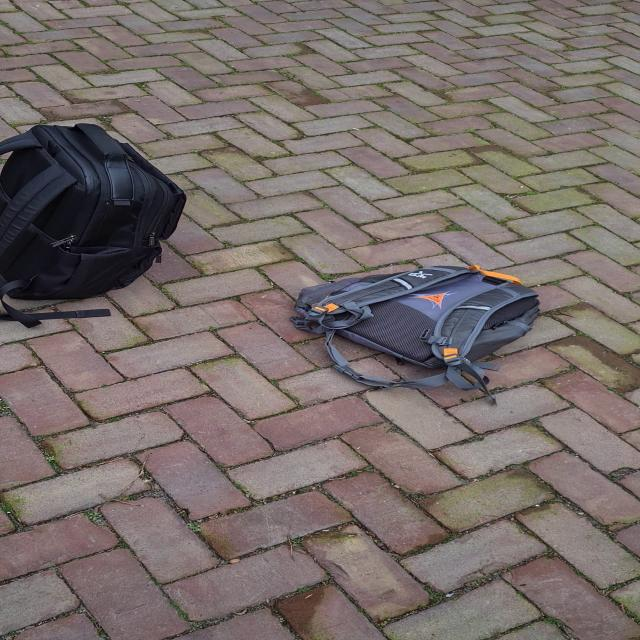backpack: (0, 120, 189, 328), (285, 264, 549, 395)
